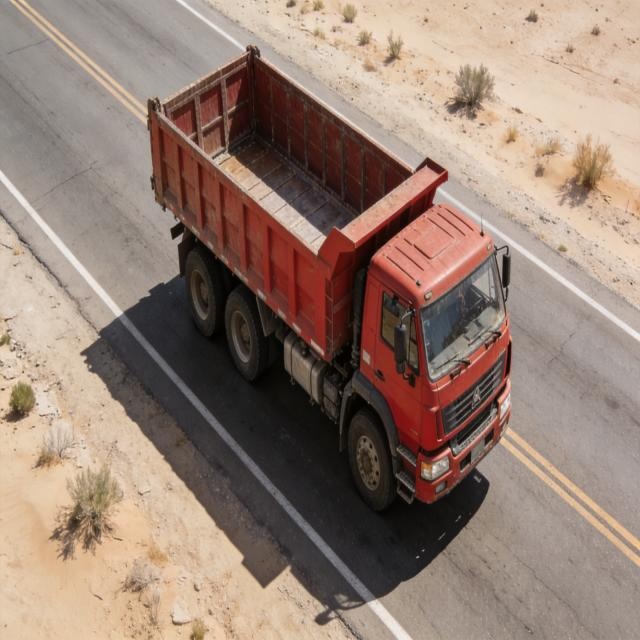Box: (149, 48, 448, 254)
Truck: (138, 11, 520, 502)
